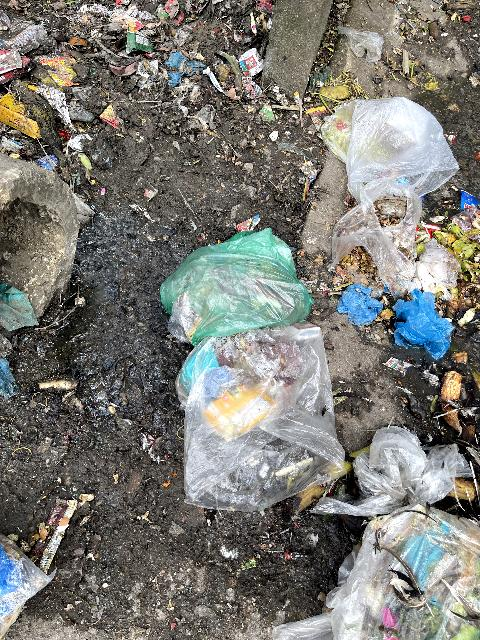polythene: (148, 242, 351, 506)
